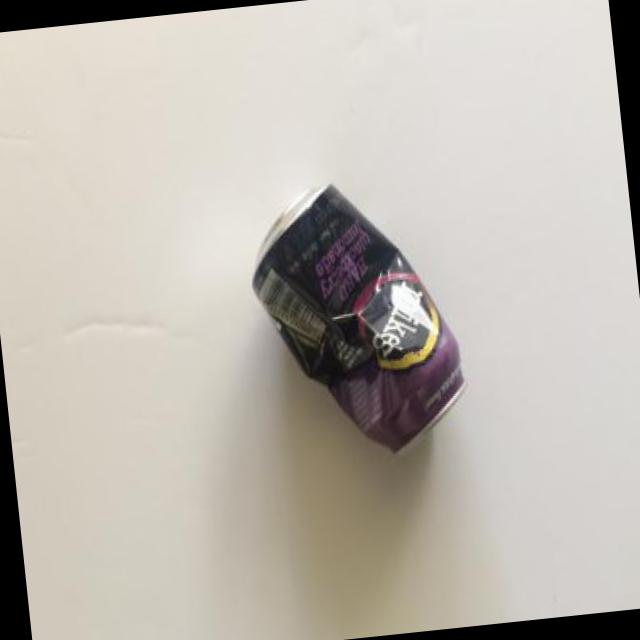nhom: (251, 179, 465, 453)
